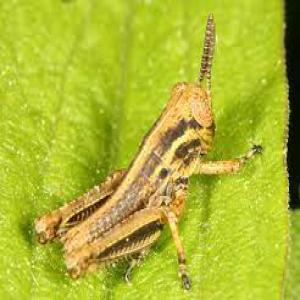locust: (35, 58, 230, 276)
